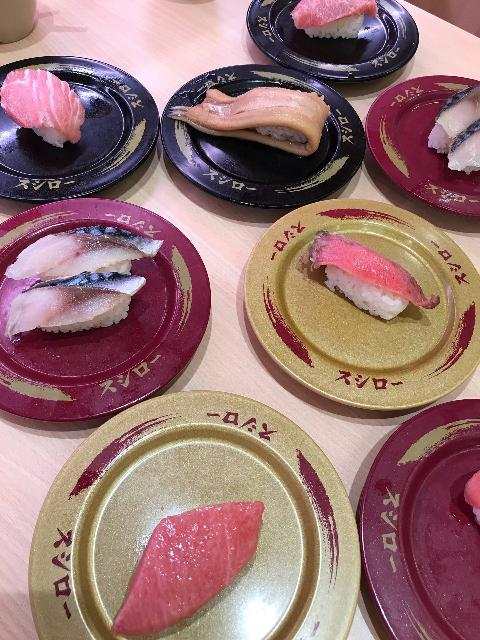janback: (162, 52, 361, 201), (0, 42, 164, 187), (242, 0, 423, 104)
jangold: (67, 372, 348, 640), (233, 216, 476, 392)
janred: (0, 193, 229, 397), (358, 420, 480, 637), (359, 77, 480, 209)
